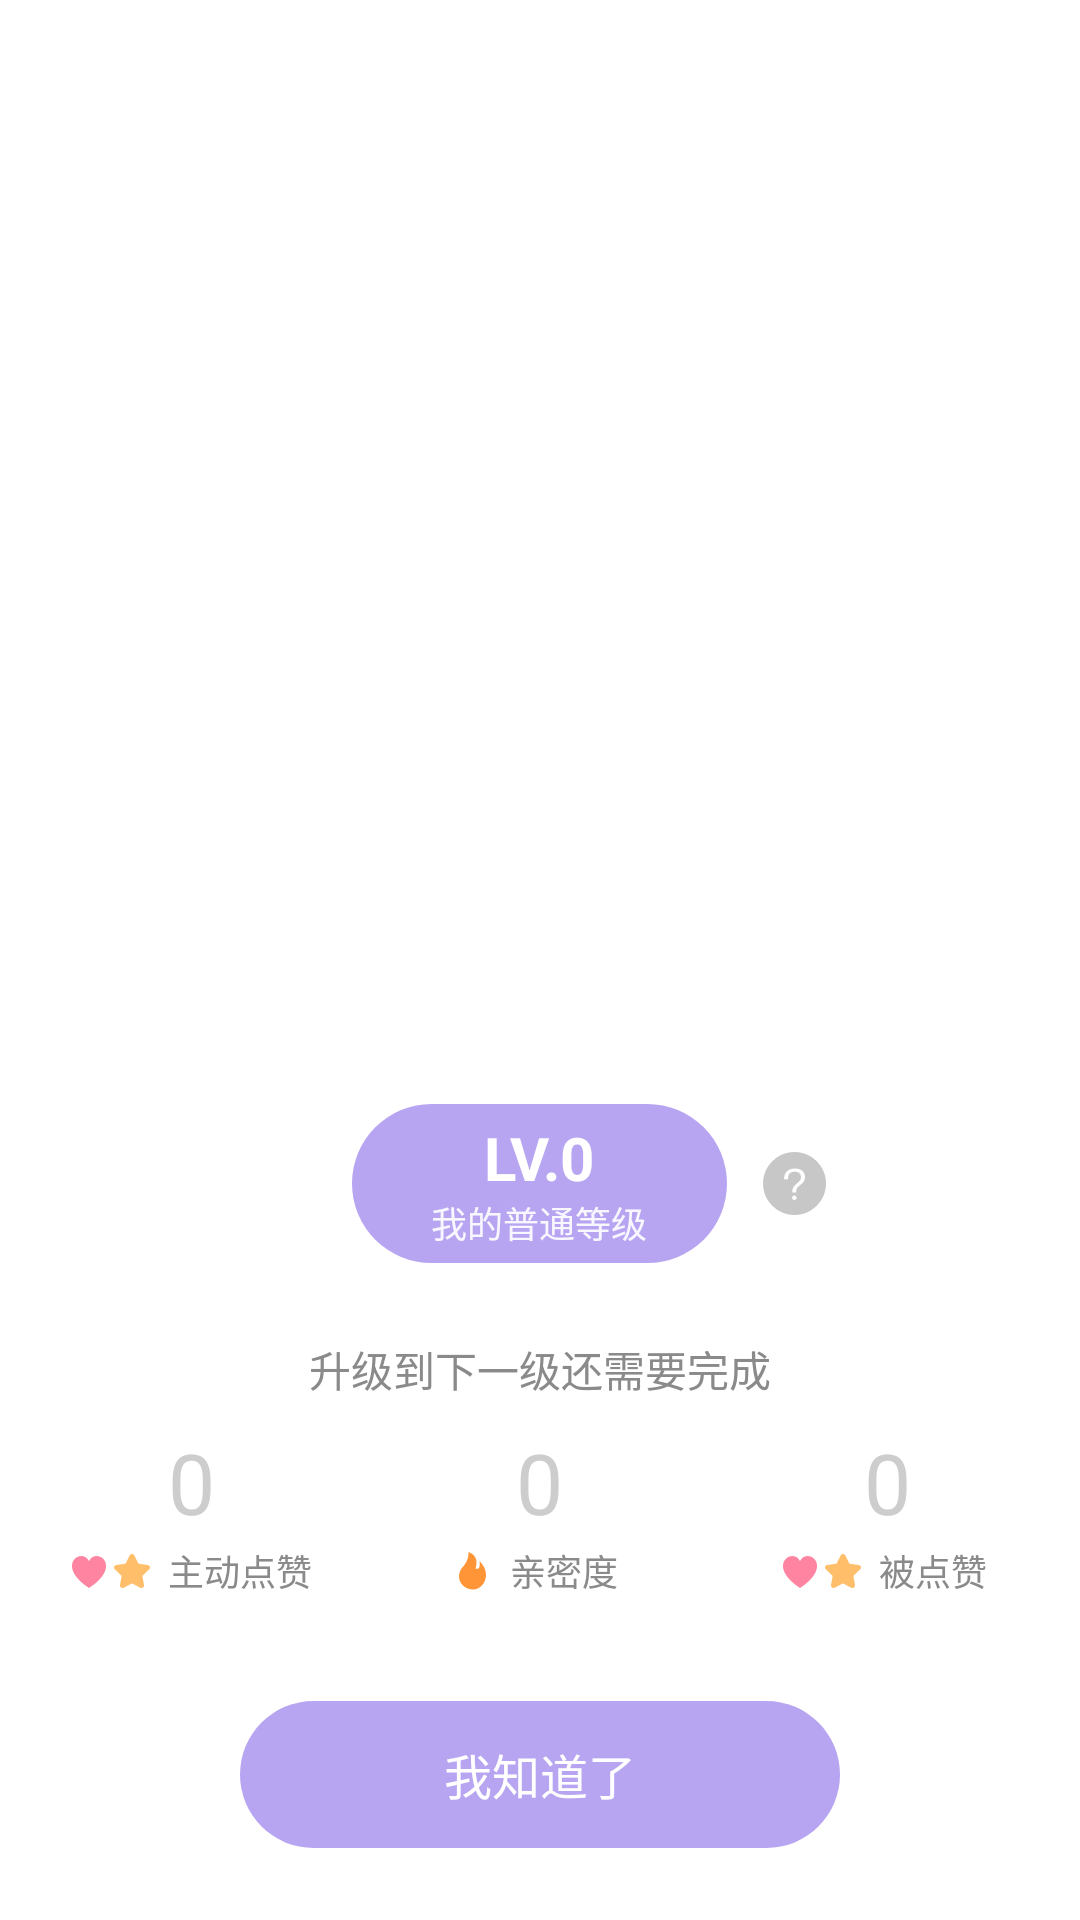

Icons on this 1080 × 1920 Android screen, each with its box as (x1, y1, x2, y2):
what is vip: (763, 1152, 826, 1215)
